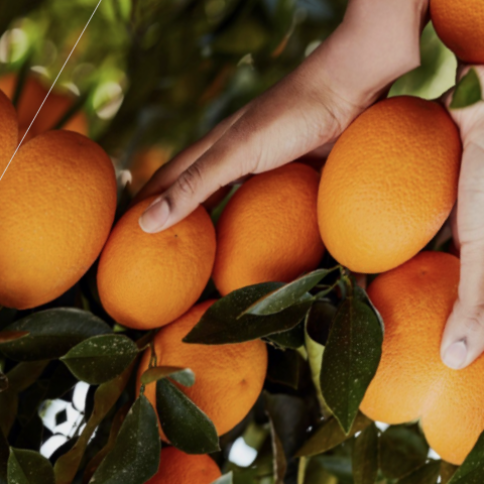orange: (274, 69, 484, 310), (0, 109, 165, 356), (60, 164, 247, 371)
